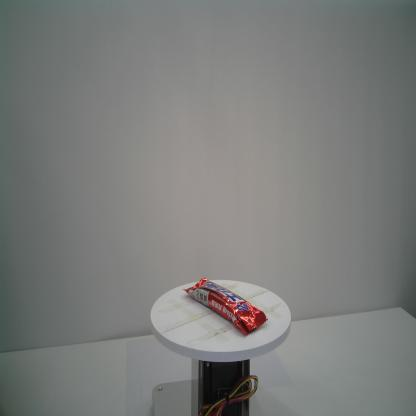Chocolate: (181, 276, 268, 338)
